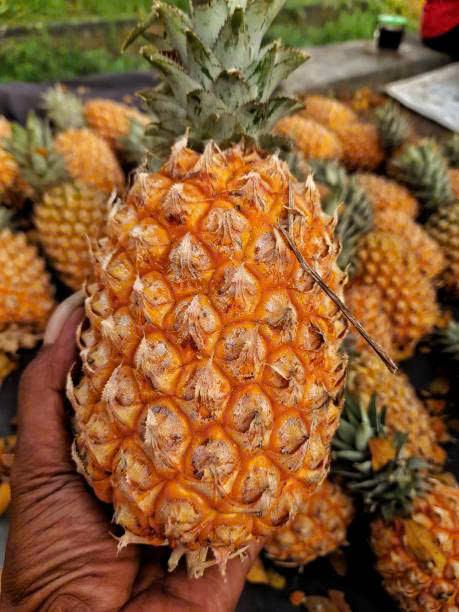pineapple: (70, 1, 346, 567)
